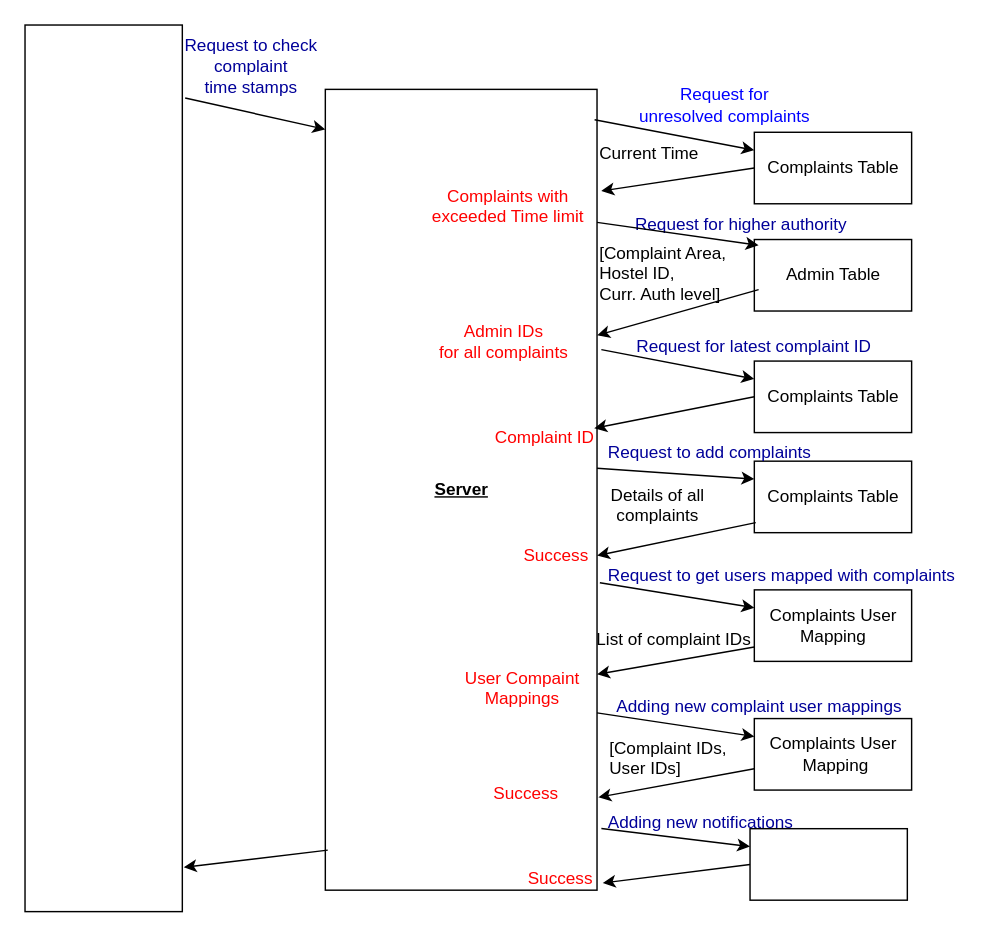
Image size: 1002x937. Some labels were removed from this diagram. The shapes that lost their labels are listed below. From the top down, each one's box as (x1, y1, x2, y2) in pixels, then its label:
(24, 24, 182, 912): CronTab
(749, 827, 907, 900): Notifications
